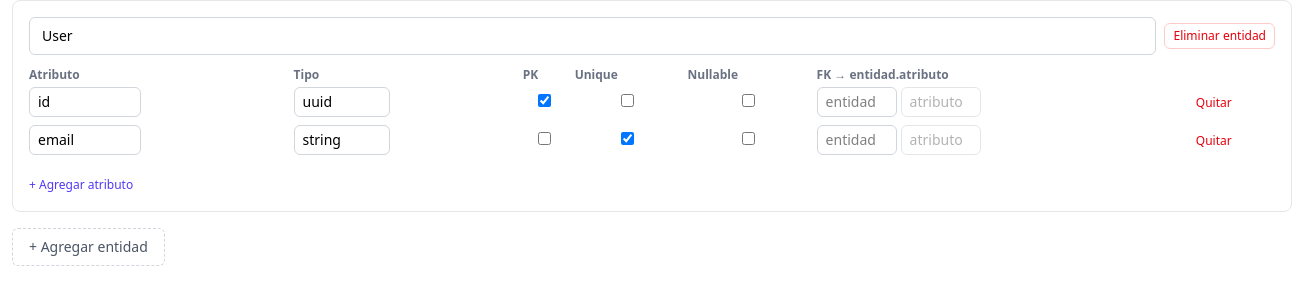
EntityEditor - edicion inline › escribir la entidad referenciada activa el campo de atributo FK
Step 1. Type "Project" into the field named "email FK entidad referenciada" → (857, 140), box [817,125,897,155]
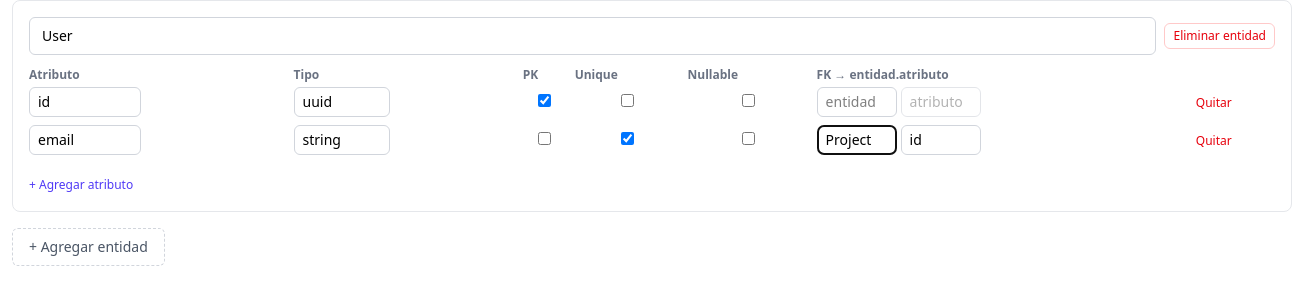
Expected: the field named "email FK atributo referenciado" is enabled, [901,125,981,155]
